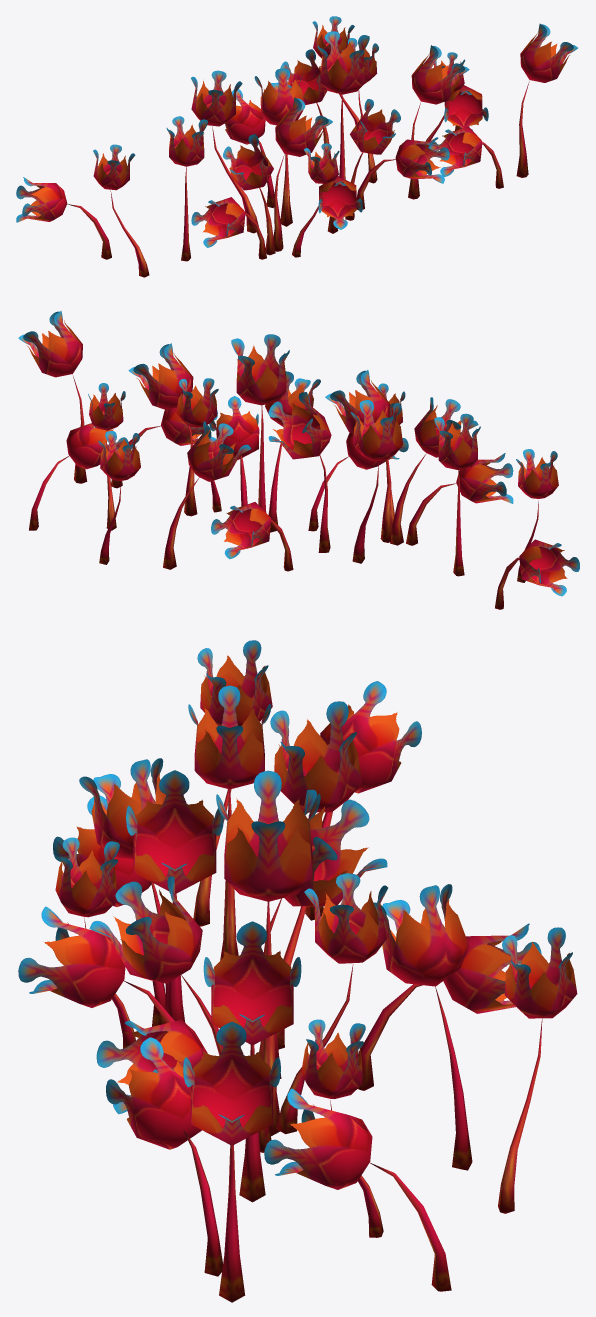
File: RedFlower_03_Group4.FBX
3 views of the same model, one above another, from view 1: azimuth 30°, elevation 25°; view 2: azimuth 150°, elevation 25°; view 3: azimuth 270°, elevation 25° (orthographic). The views are drawn at different scales.
Parts seen in each view (by area): view 1: RedFlower_03_Group4; view 2: RedFlower_03_Group4; view 3: RedFlower_03_Group4.
Part boxes in pixels (x1=…): RedFlower_03_Group4: x1=16, y1=16, x2=577, y2=277; RedFlower_03_Group4: x1=18, y1=311, x2=579, y2=609; RedFlower_03_Group4: x1=18, y1=640, x2=577, y2=1302.
Size of the model in its own units: 303 by 94.99 by 141.
